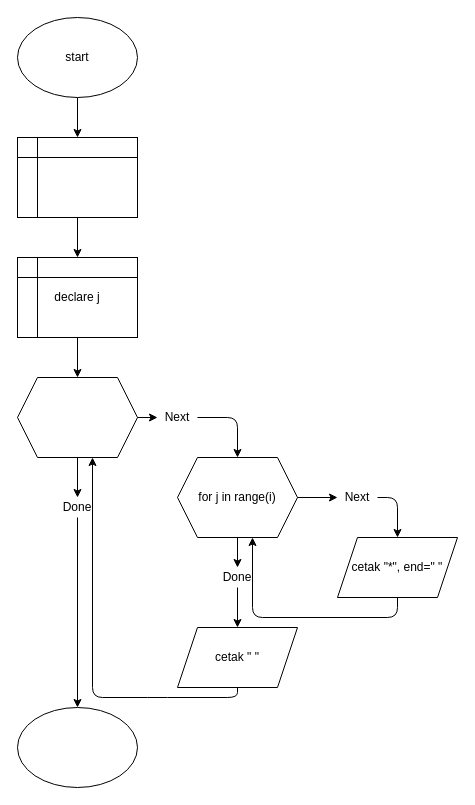
Image size: 475x805. Some labels were removed from this diagram. Each missing label, with the centre of its shape:
declare i: the point at 77,177
finish: the point at 77,747
for i in range(0,10): the point at 77,417
